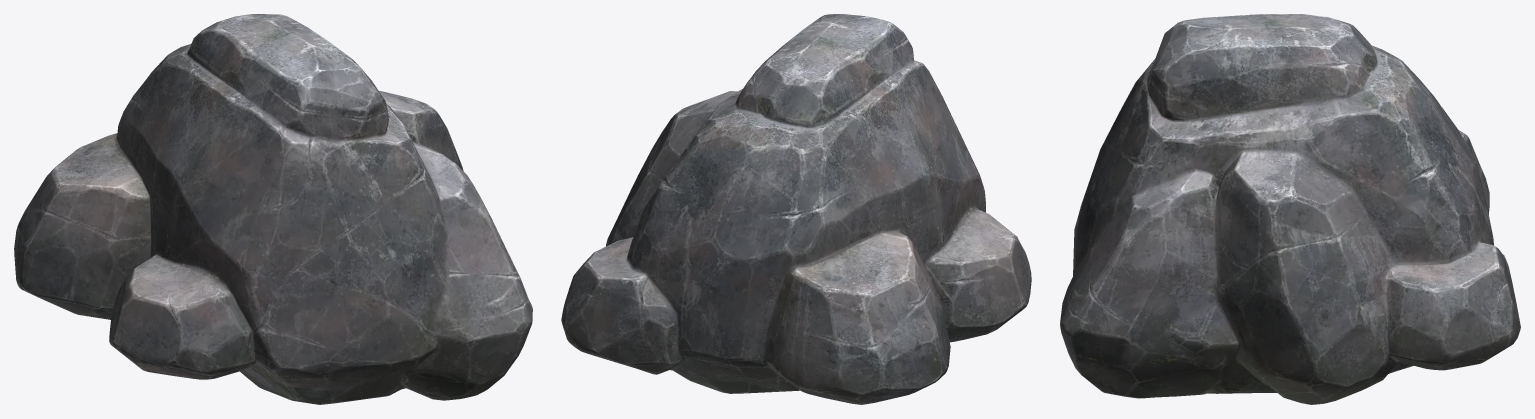
The picture shows the model from 3 angles, left to right: view 1: azimuth 30°, elevation 25°; view 2: azimuth 150°, elevation 25°; view 3: azimuth 270°, elevation 25°; orthographic projection. The views are drawn at different scales.
Parts seen in each view (by area): view 1: SM_Stone_Boulder_01_LOD0; view 2: SM_Stone_Boulder_01_LOD0; view 3: SM_Stone_Boulder_01_LOD0.
Boxes of the visible parts, box(x1,y1,x2,y2) form: SM_Stone_Boulder_01_LOD0: box(14, 14, 532, 404); SM_Stone_Boulder_01_LOD0: box(561, 14, 1031, 404); SM_Stone_Boulder_01_LOD0: box(1060, 14, 1520, 404).
Bounding box in the file's own units: 2.16 × 1.84 × 2.23.
Materials: 1 (1 with a texture image).
